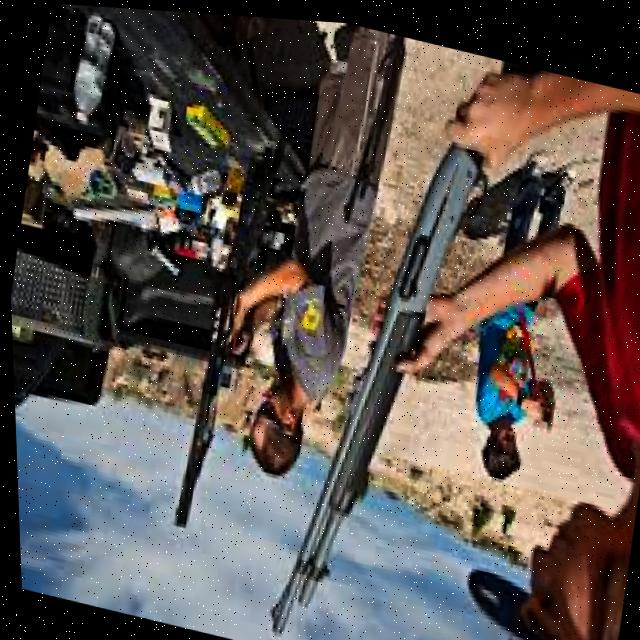firearm: (238, 12, 566, 640), (157, 126, 297, 542)
